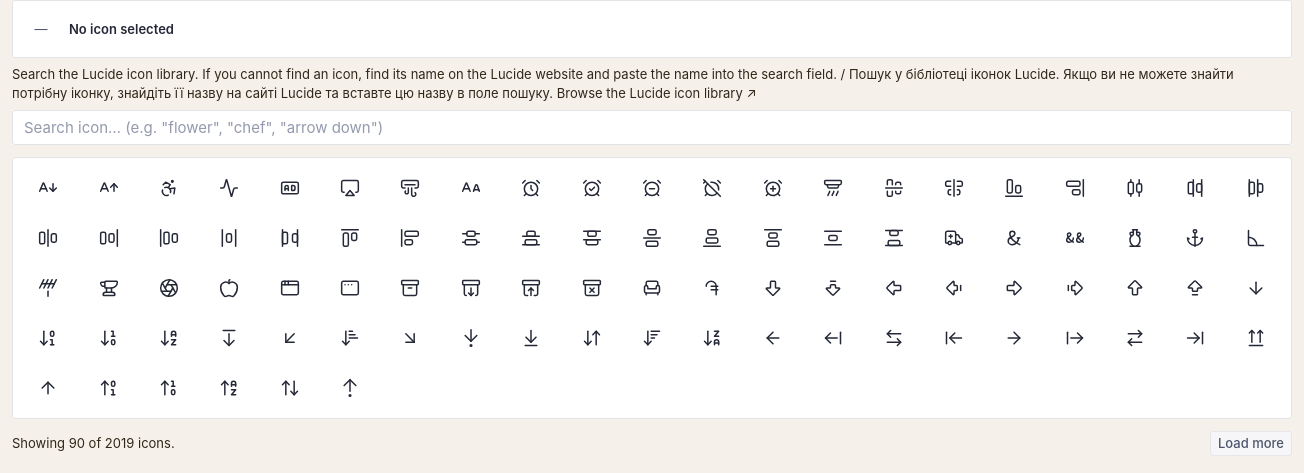
IconPickerInput — search › is case-insensitive
Type "CHEFHAT" into the field with placeholder "Search icon… (e.g. \"flower\", \"chef\", \"arrow down\")" at (652, 128), box x1=12 y1=110 x2=1292 y2=145
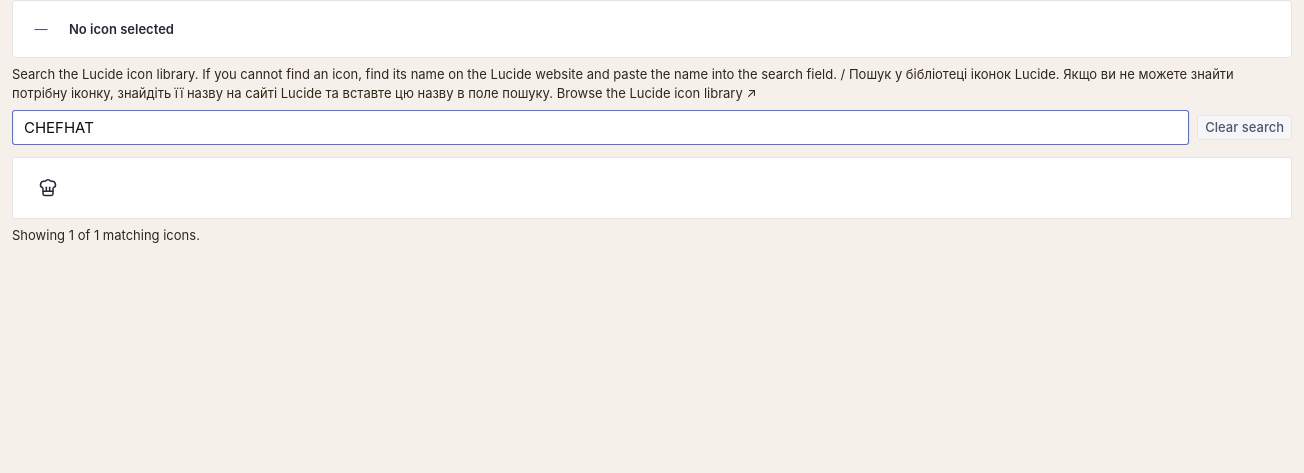
Expected: the button titled "ChefHat" is shown, x1=21 y1=166 x2=75 y2=210
